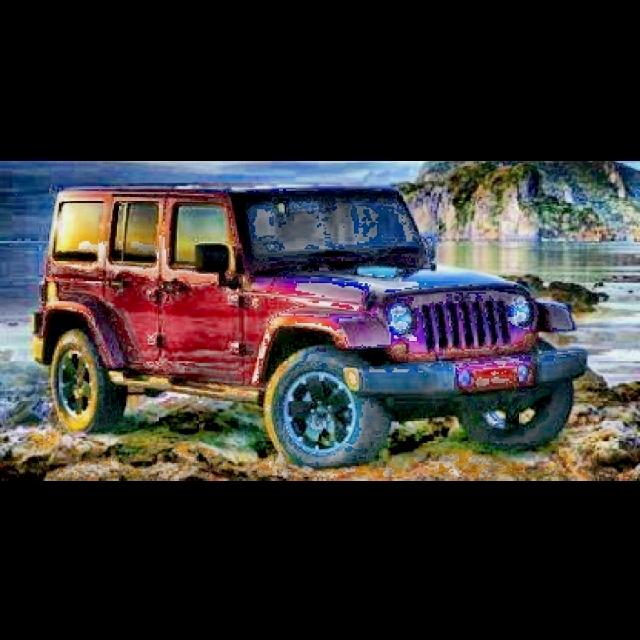maroon: (8, 173, 586, 447)
